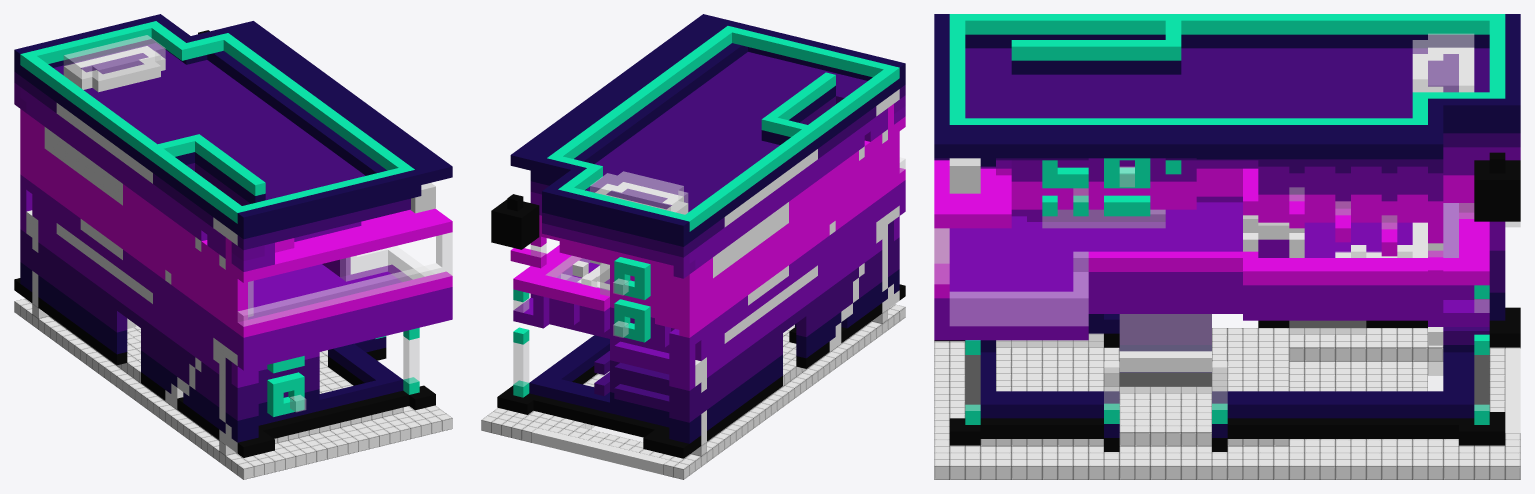
3 renders of one model, left to right at view 1: azimuth 30°, elevation 25°; view 2: azimuth 150°, elevation 25°; view 3: azimuth 270°, elevation 25°, orthographic. The views are drawn at different scales.
Visible parts, largest first — view 1: cvparcel; view 2: cvparcel; view 3: cvparcel.
Boxes of the visible parts, x1,y1,x2,y2 form: cvparcel: (14,14,452,479); cvparcel: (481,14,905,479); cvparcel: (934,14,1520,479).
Bounding box in the file's own units: 10 × 12 × 19.
Materials: 2 (1 with a texture image).
